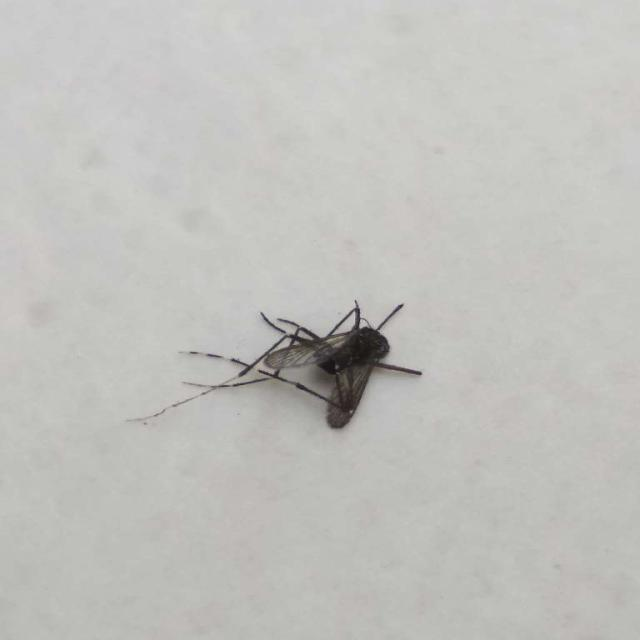albopictus: (132, 290, 442, 430)
